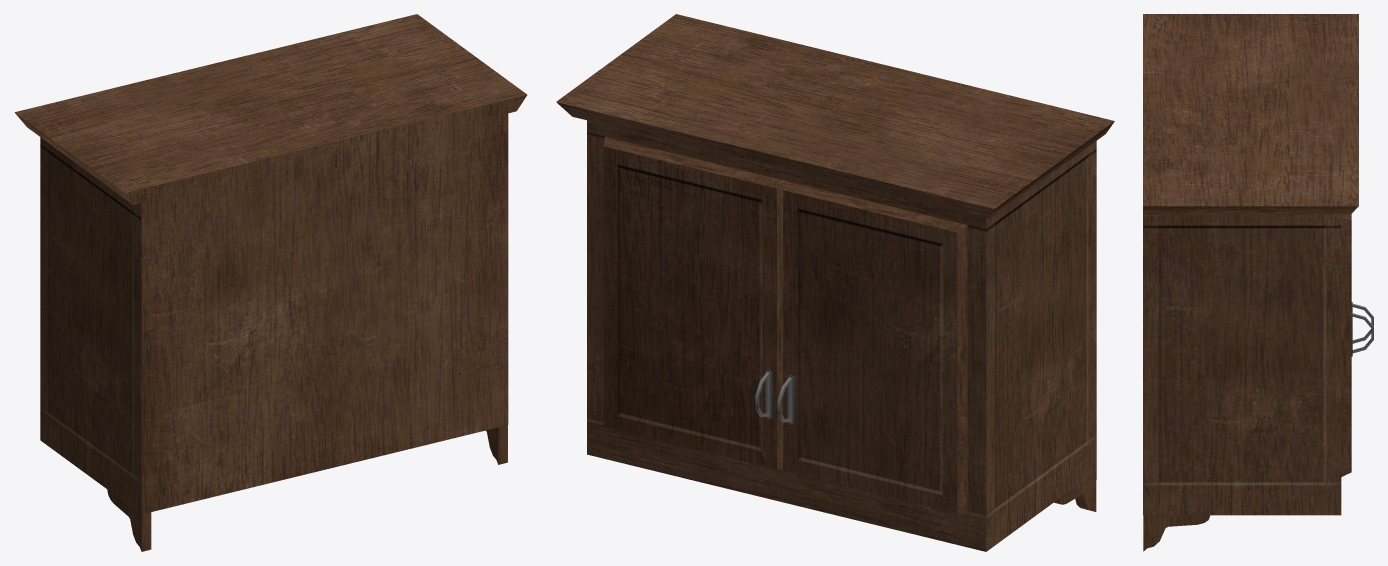
File: cupboard.obj
3 views of the same model, side by side, from view 1: azimuth 30°, elevation 25°; view 2: azimuth 150°, elevation 25°; view 3: azimuth 270°, elevation 25° (orthographic). The views are drawn at different scales.
Parts seen in each view (by area): view 1: mesh; view 2: mesh; view 3: mesh.
Part boxes in pixels (x1,y1,x2,y2): mesh: (15, 14, 527, 551); mesh: (556, 14, 1114, 551); mesh: (1143, 14, 1373, 551).
Size of the model in its own units: 56.53 by 48.69 by 28.67.
1 material, 1 textured.
